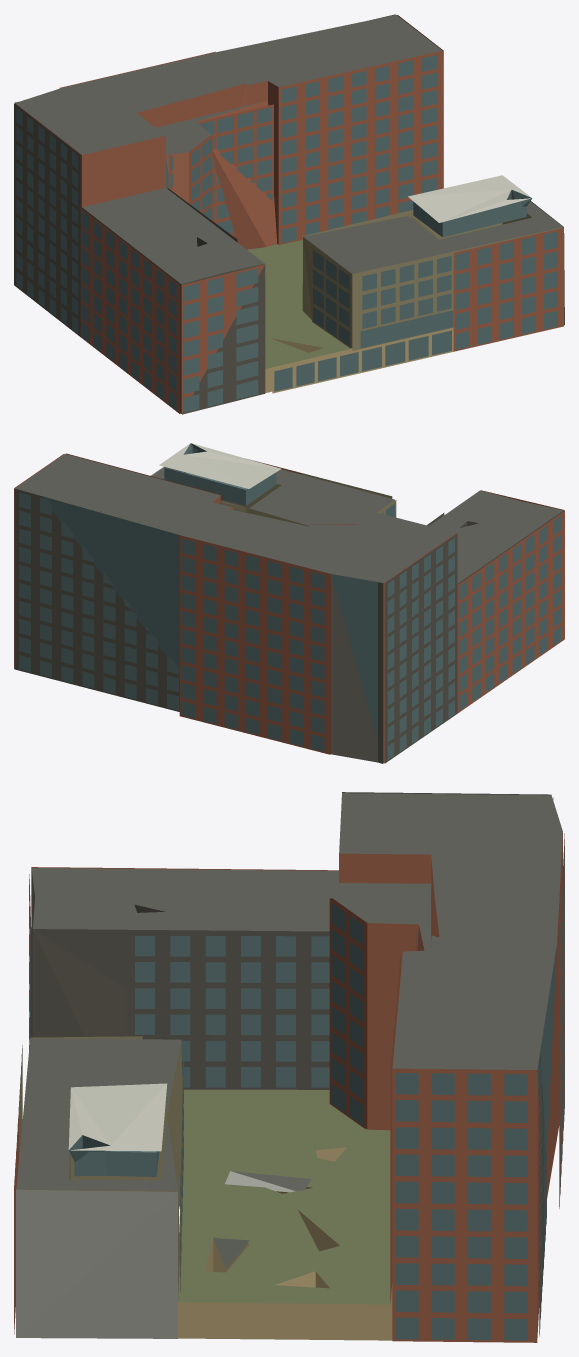
Rendered from haparandaweg-8-338.lod2.glb.
The picture shows the model from 3 angles, top to bottom: view 1: azimuth 30°, elevation 25°; view 2: azimuth 150°, elevation 25°; view 3: azimuth 270°, elevation 25°; orthographic projection. The views are drawn at different scales.
Visible parts, largest first — view 1: lod2; view 2: lod2; view 3: lod2.
Part boxes in pixels (x1,y1,x2,y2): lod2: (14, 14, 564, 414); lod2: (14, 443, 564, 763); lod2: (14, 792, 564, 1342).
Bounding box in the file's own units: 70.03 × 31.5 × 57.83.
